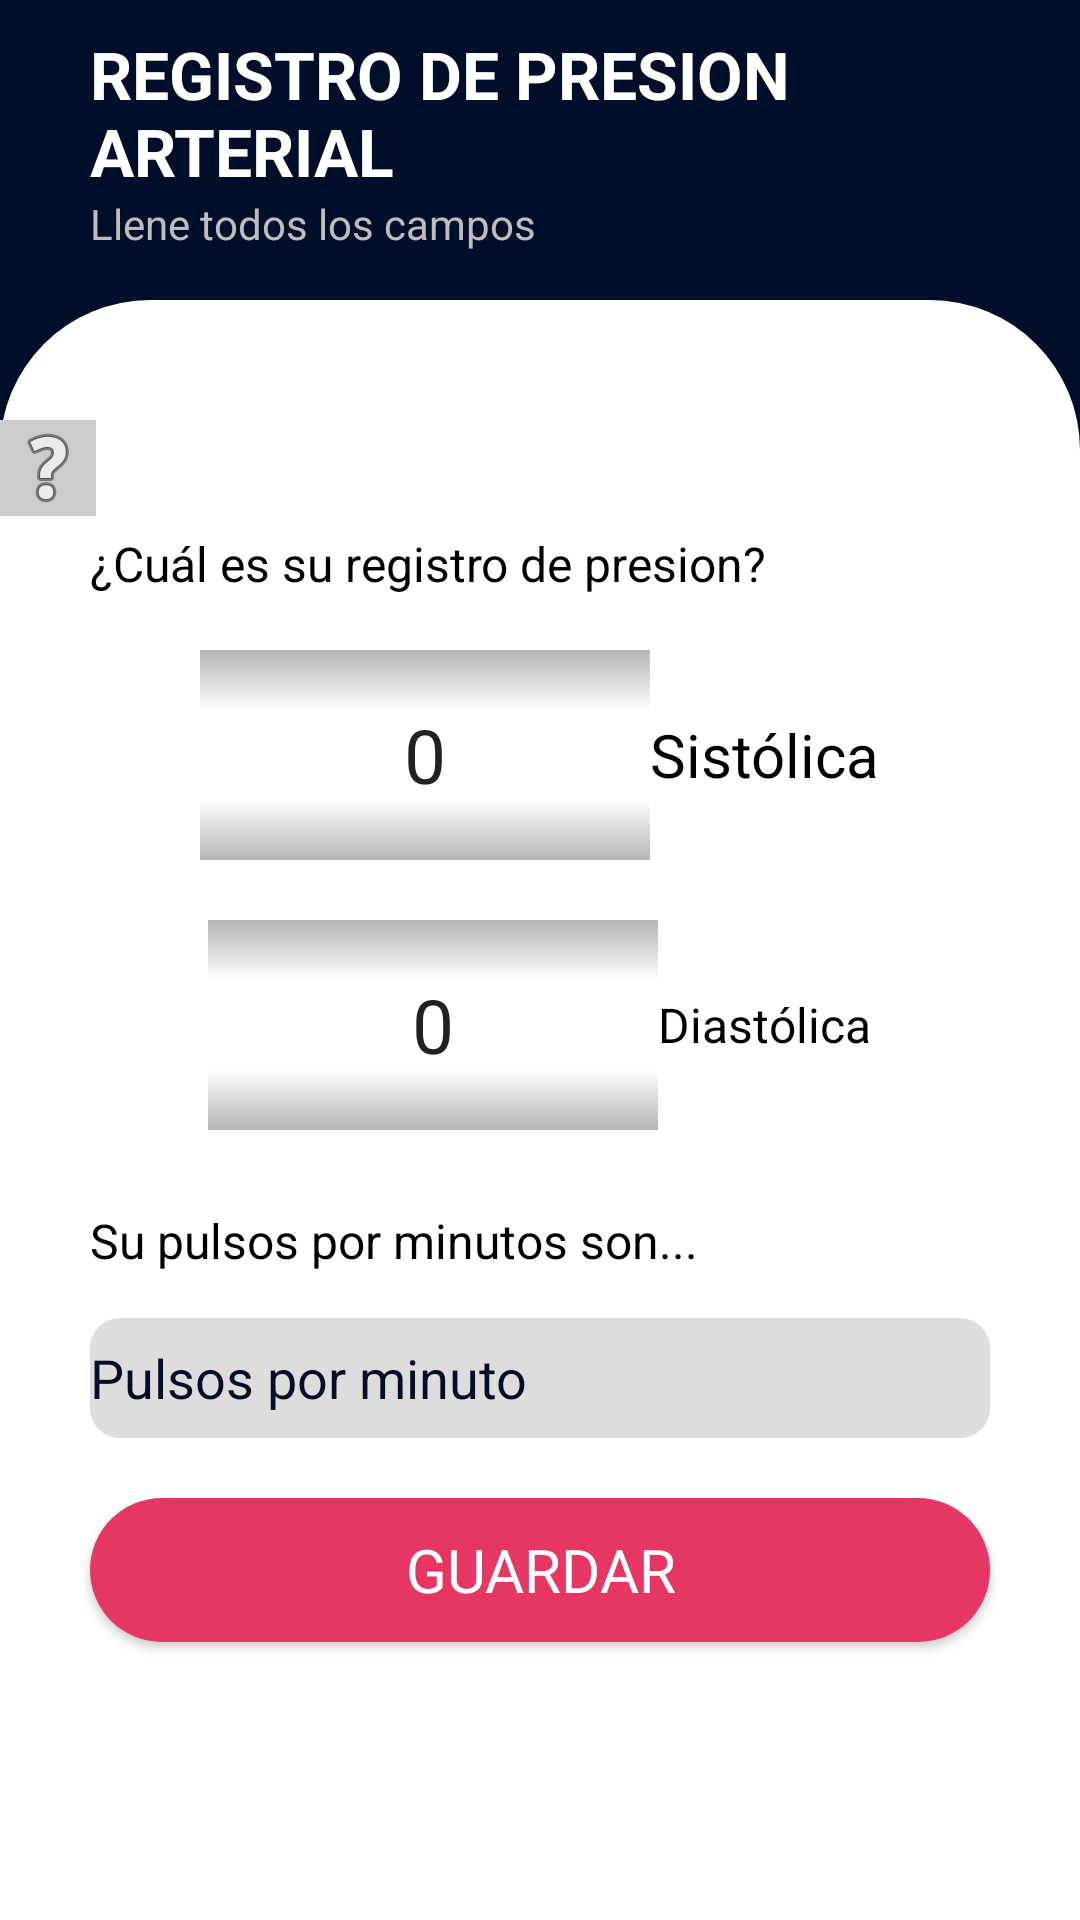

Where to tap for icons on this 1080 × 1920 app screen, as [x,y]:
help: [48,468]
